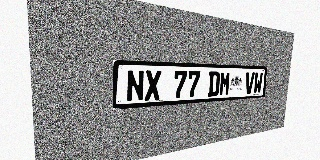7: (172, 71, 187, 99), (186, 71, 200, 98)
D: (208, 71, 220, 97)
M: (219, 72, 231, 96)
N: (126, 70, 144, 102)
V: (244, 72, 255, 94)
W: (253, 72, 263, 94)
X: (144, 70, 161, 101)
